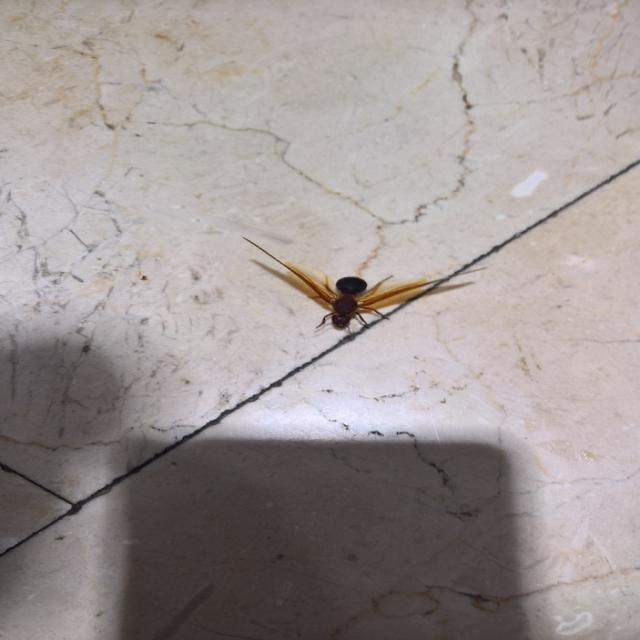Alive-Female-Alate: (241, 236, 487, 336)
